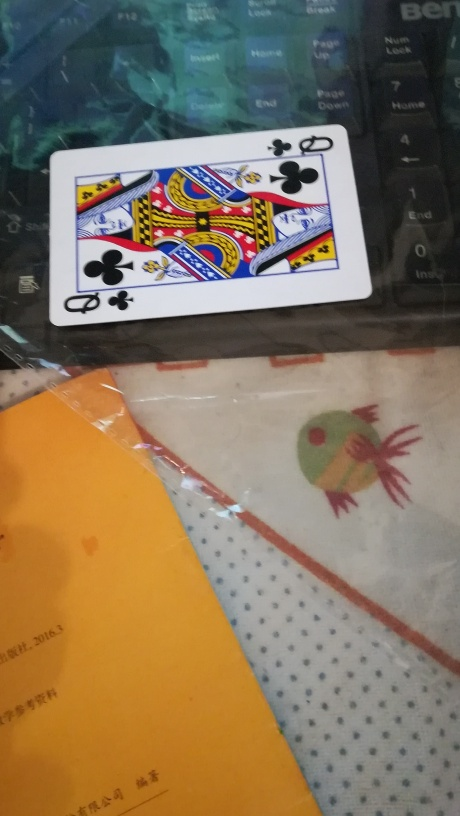mh q: (43, 121, 371, 325)
